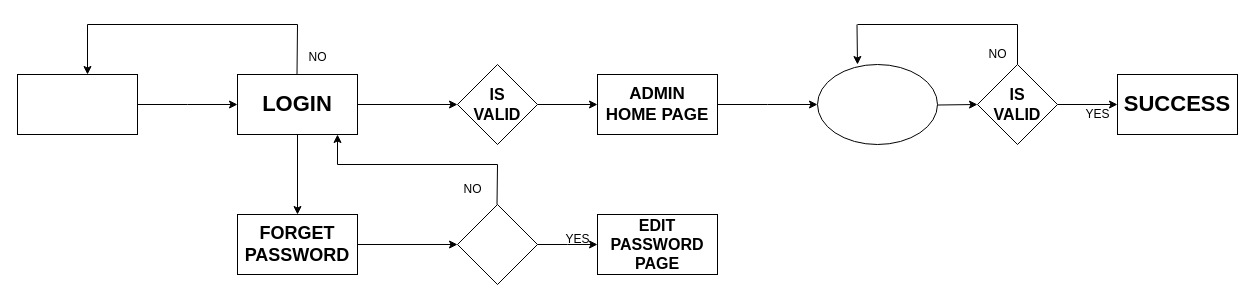
The diagram is 1255 pixels wide and 302 high, and some of its shapes have lost their labels. Each missing label, with the centre of its shape:
ADMIN: pixel 77 104
CONTROL ACCOUNTS: pixel 877 104
VALIDATION: pixel 497 244
